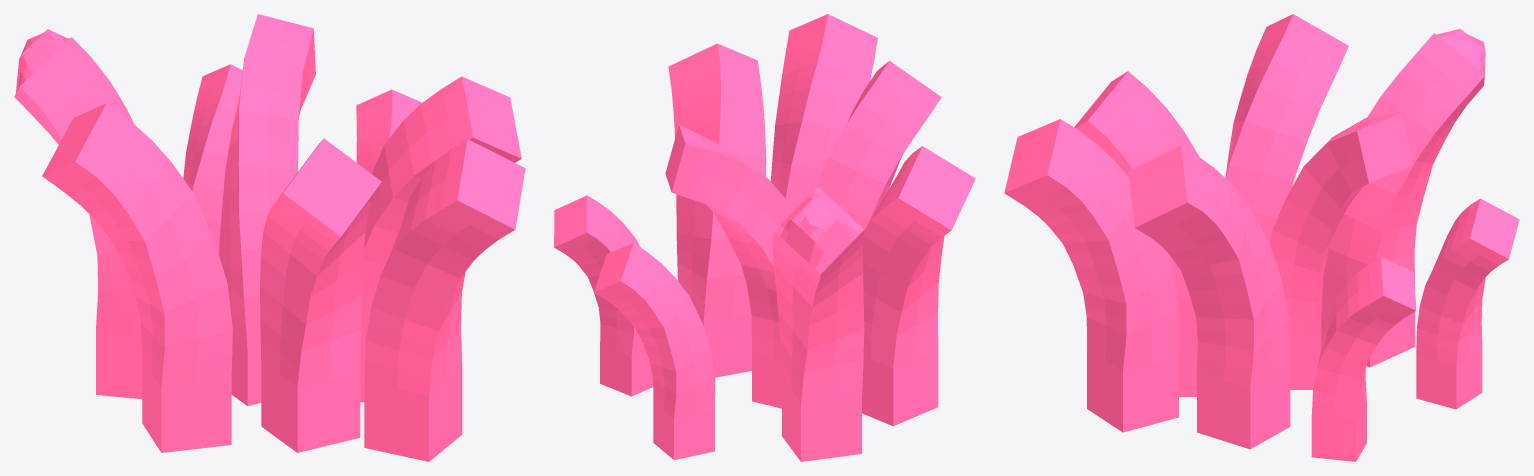
Rendered from TestCoral2500tris.fbx.
3 renders of one model, left to right at view 1: azimuth 30°, elevation 25°; view 2: azimuth 150°, elevation 25°; view 3: azimuth 270°, elevation 25°, orthographic. The views are drawn at different scales.
Parts seen in each view (by area): view 1: Cube; view 2: Cube; view 3: Cube.
Boxes of the visible parts, bbox=[...] form: Cube: bbox=[14, 14, 525, 461]; Cube: bbox=[554, 14, 975, 461]; Cube: bbox=[1004, 14, 1519, 461].
Bounding box in the file's own units: 6.6 × 4.94 × 7.68.
